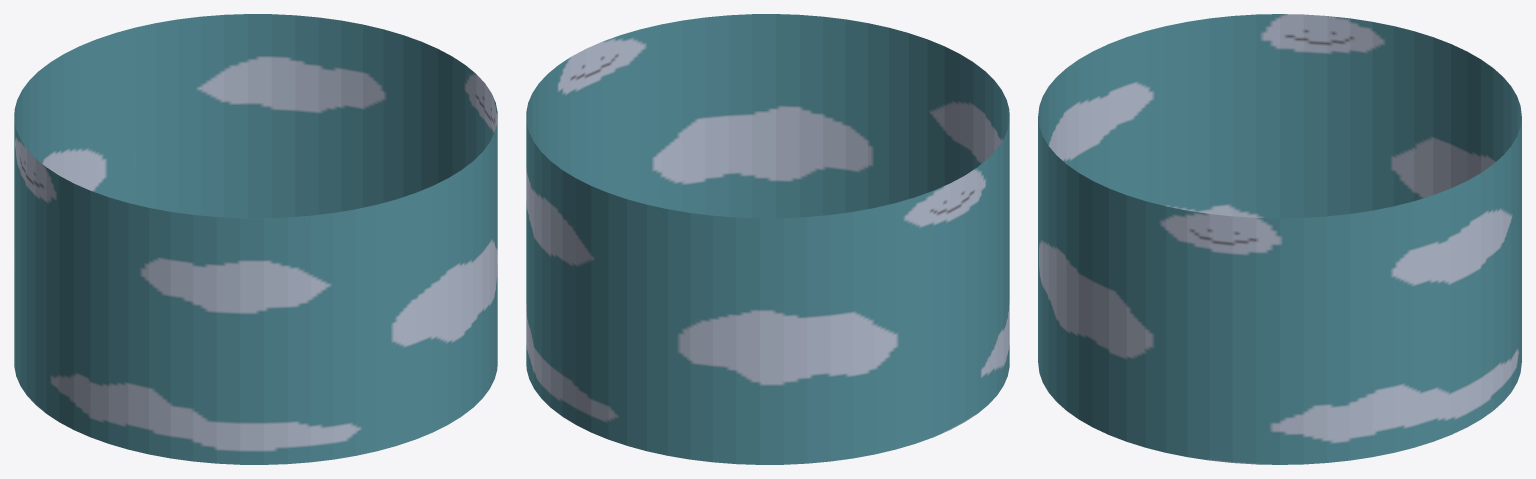
The model's file is sky.fbx.
3 renders of one model, left to right at view 1: azimuth 30°, elevation 25°; view 2: azimuth 150°, elevation 25°; view 3: azimuth 270°, elevation 25°, orthographic.
Parts seen in each view (by area): view 1: Cylinder; view 2: Cylinder; view 3: Cylinder.
Part boxes in pixels (<box>): Cylinder: <box>14,14,497,464</box>; Cylinder: <box>526,14,1009,464</box>; Cylinder: <box>1038,14,1521,464</box>.
Bounding box in the file's own units: 1600 × 900 × 1600.
